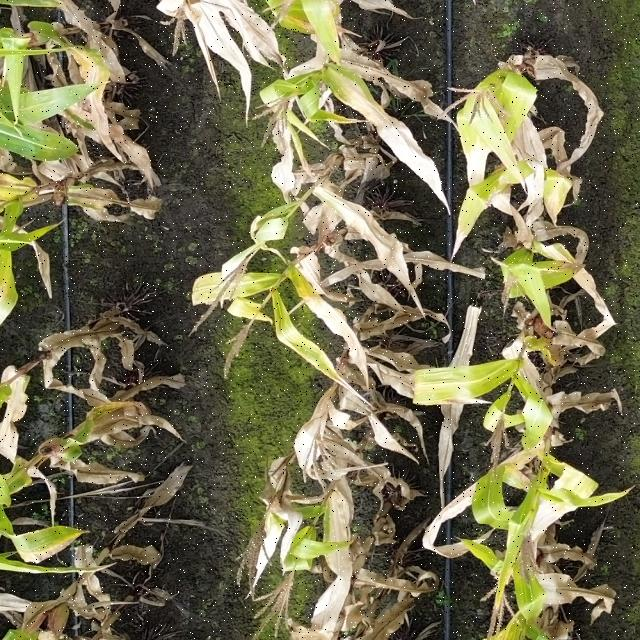gray-leaf-spot: (474, 478, 510, 514)
northern-leaf-blight: (334, 70, 389, 121), (63, 44, 108, 87), (280, 12, 340, 36)
southern-leaf-blight: (20, 86, 74, 114)
